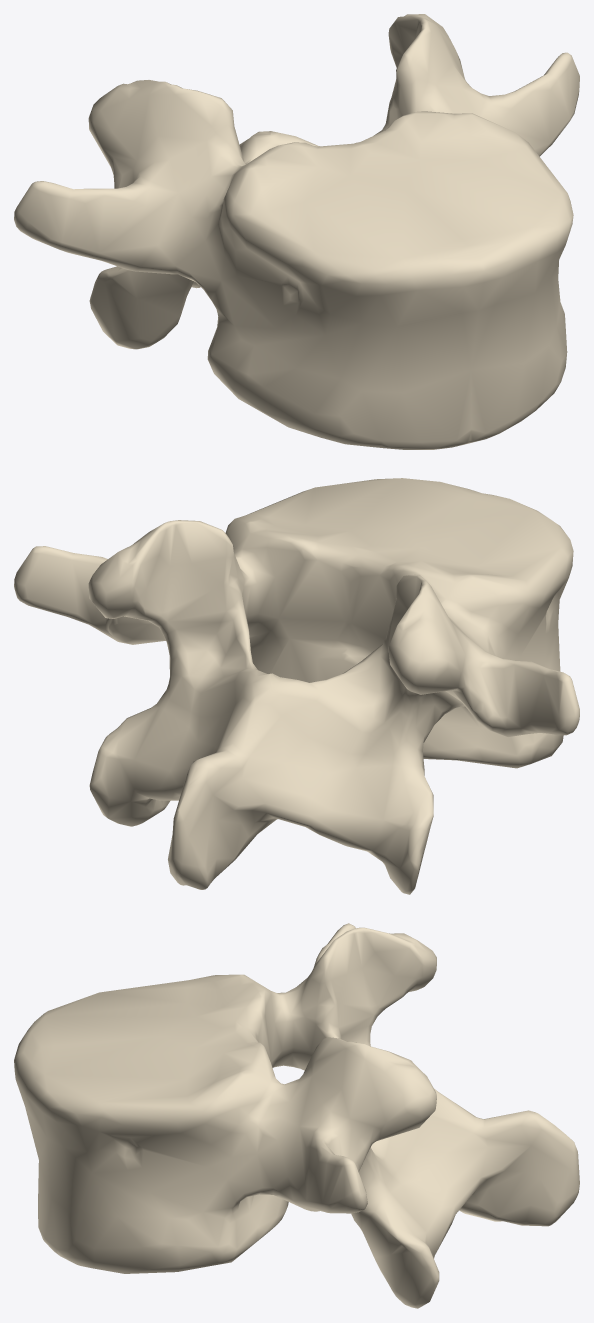
The model's file is vertebra-l4.glb.
3 views of the same model, one above another, from view 1: azimuth 30°, elevation 25°; view 2: azimuth 150°, elevation 25°; view 3: azimuth 270°, elevation 25° (orthographic). The views are drawn at different scales.
Visible parts, largest first — view 1: Vertebra L4; view 2: Vertebra L4; view 3: Vertebra L4.
Boxes of the visible parts, x1,y1,x2,y2 form: Vertebra L4: [14, 14, 579, 449]; Vertebra L4: [14, 478, 579, 894]; Vertebra L4: [14, 923, 579, 1308].
Size of the model in its own units: 0.0887 by 0.0429 by 0.0843.
